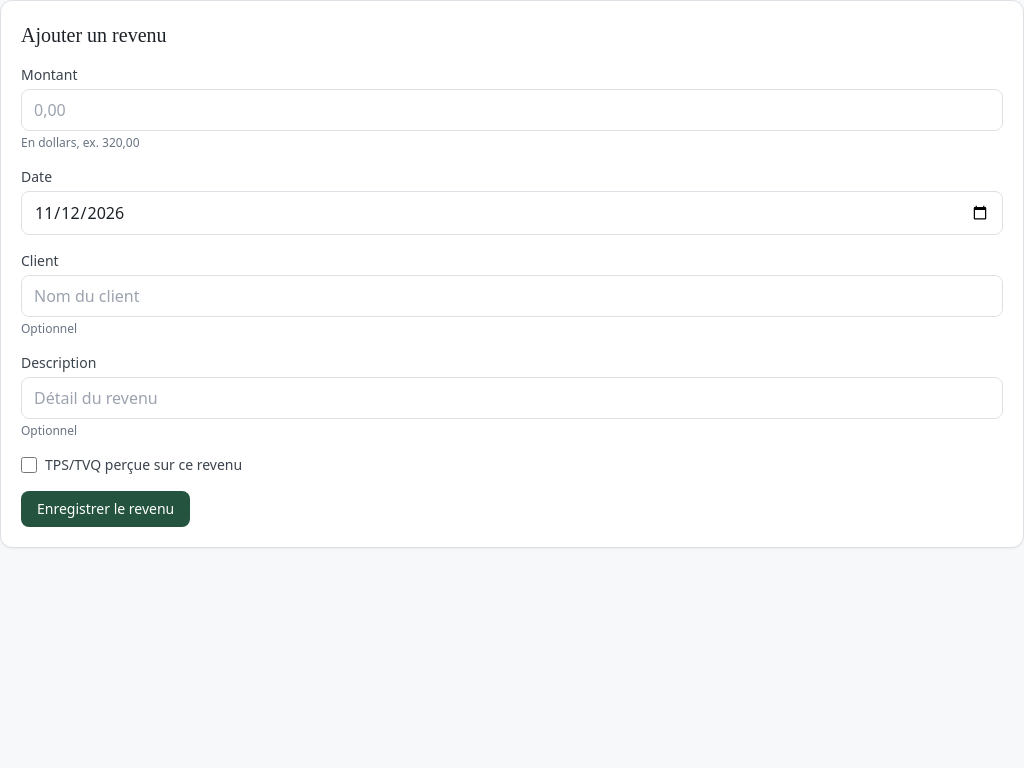
Scenario: IncomeForm › rejette un montant de zéro ou négatif
Type "0" into the field labelled "Montant".
click(512, 110); type("0")  # box [21,89,1003,131]
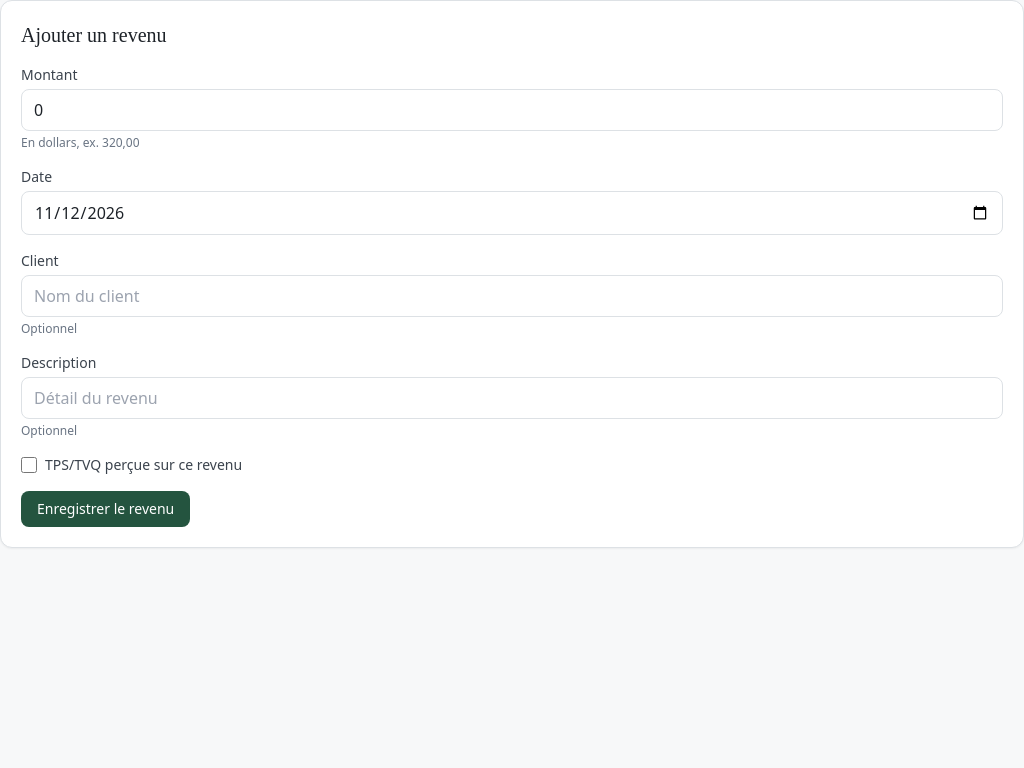
Click the button "Enregistrer le revenu".
click(106, 509)  # box [21,491,190,527]
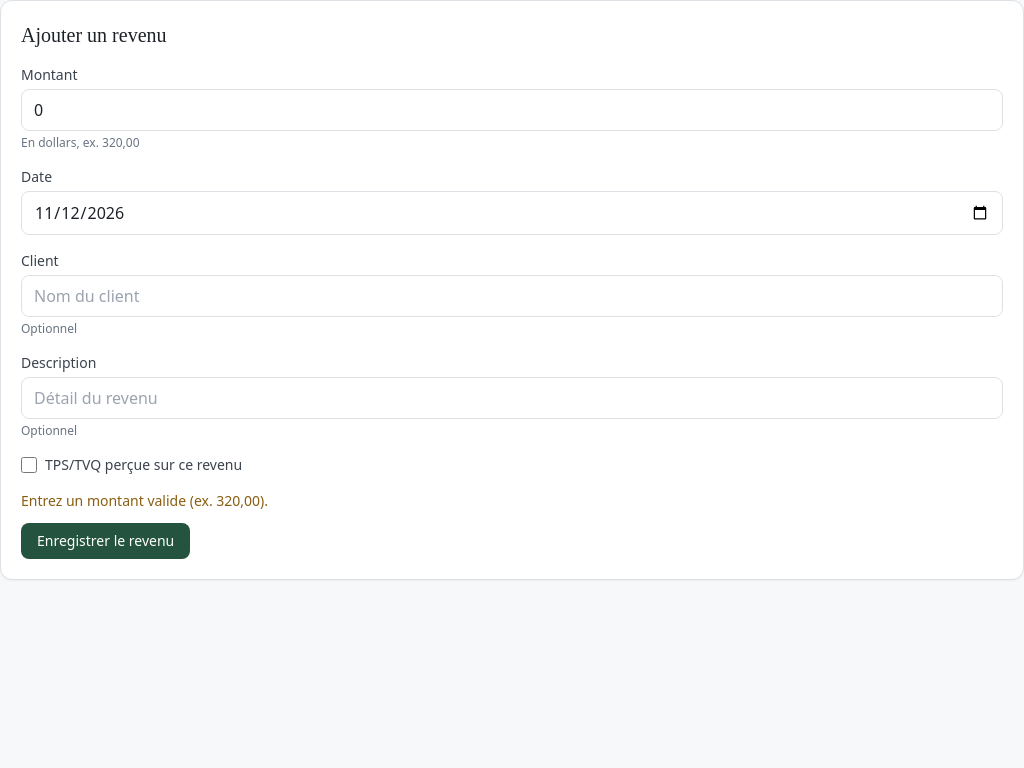
Now the text "Entrez un montant valide (ex. 320,00)." is shown, box [21,491,268,510]
